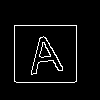A: (25, 25, 65, 75)
